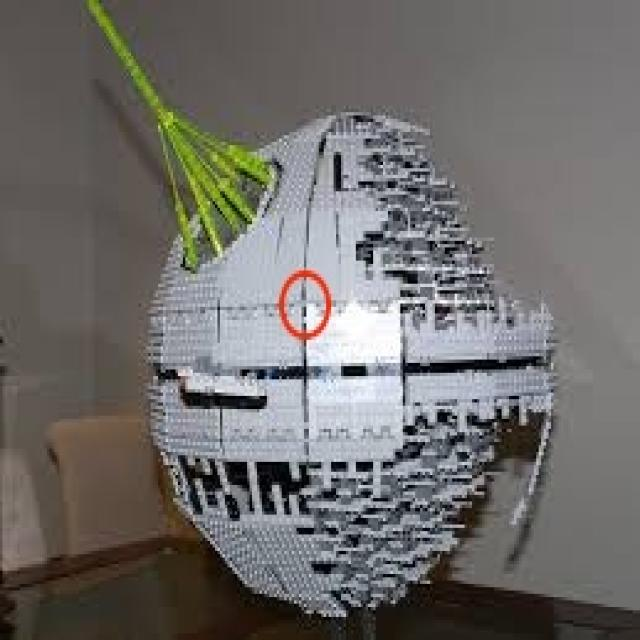death-stars: (148, 112, 561, 620)
